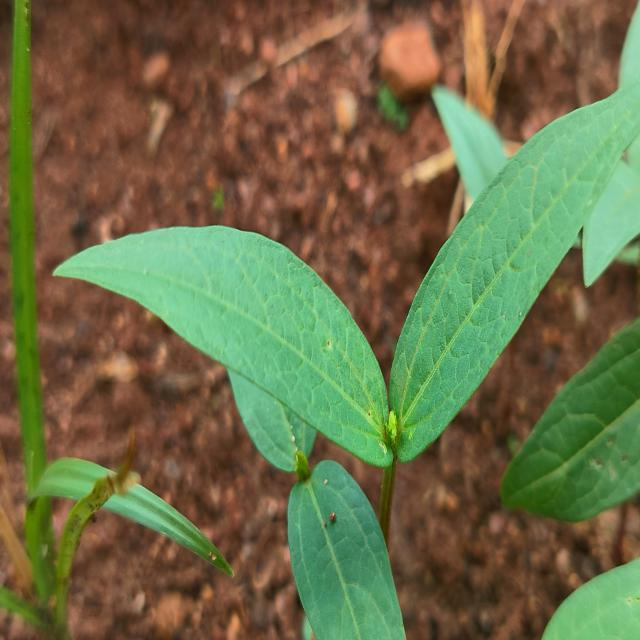Black gram_healthy: (393, 74, 640, 468), (51, 226, 396, 472), (215, 218, 321, 481)
